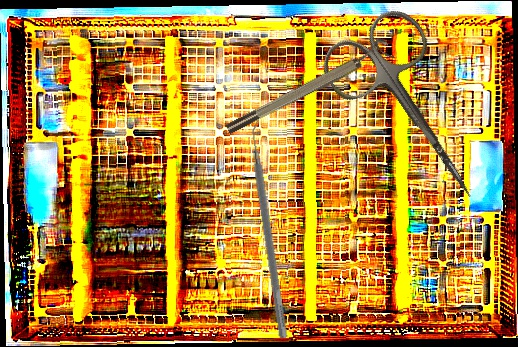Fixation Ring: (220, 35, 395, 138)
Iris Scissors: (313, 0, 514, 228)
Spatula Surgical: (244, 117, 297, 339)
